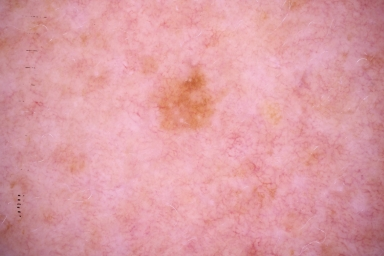melanoma: (126, 56, 237, 152)
